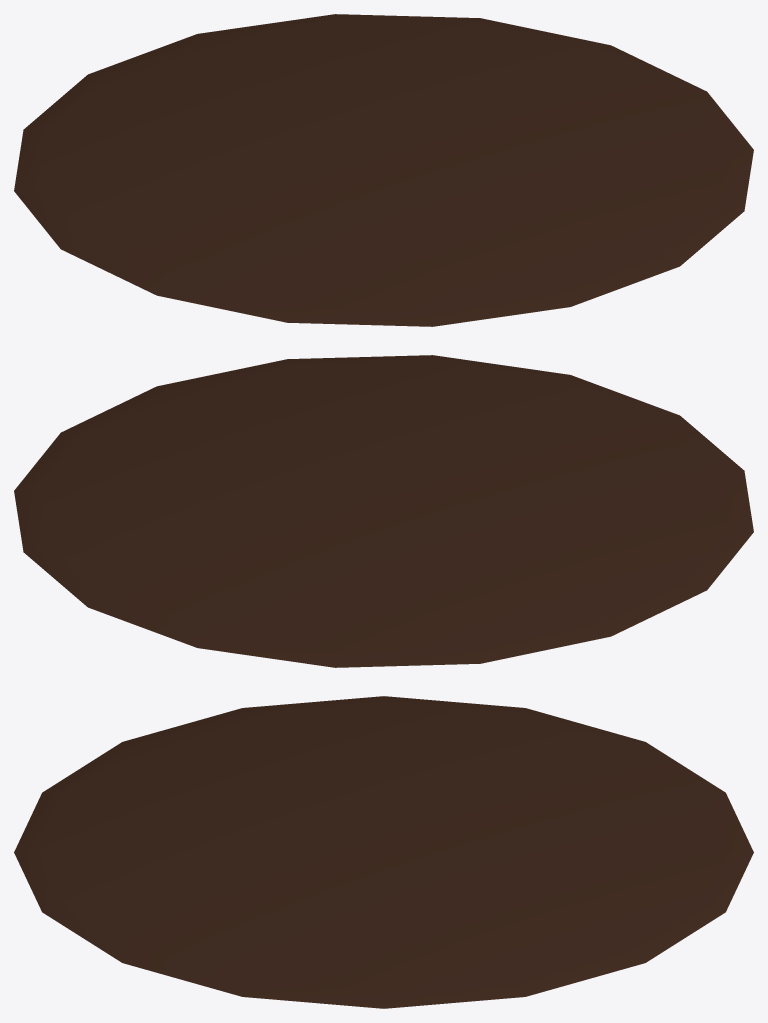
The model's file is Lug.fbx.
3 renders of one model, top to bottom at view 1: azimuth 30°, elevation 25°; view 2: azimuth 150°, elevation 25°; view 3: azimuth 270°, elevation 25°, orthographic.
Visible parts, largest first — view 1: Circle; view 2: Circle; view 3: Circle.
Boxes of the visible parts, box(x1,y1,x2,y2) form: Circle: box(14, 14, 753, 326); Circle: box(14, 355, 753, 667); Circle: box(14, 696, 753, 1008).
Bounding box in the file's own units: 521 × 3.78 × 521.
